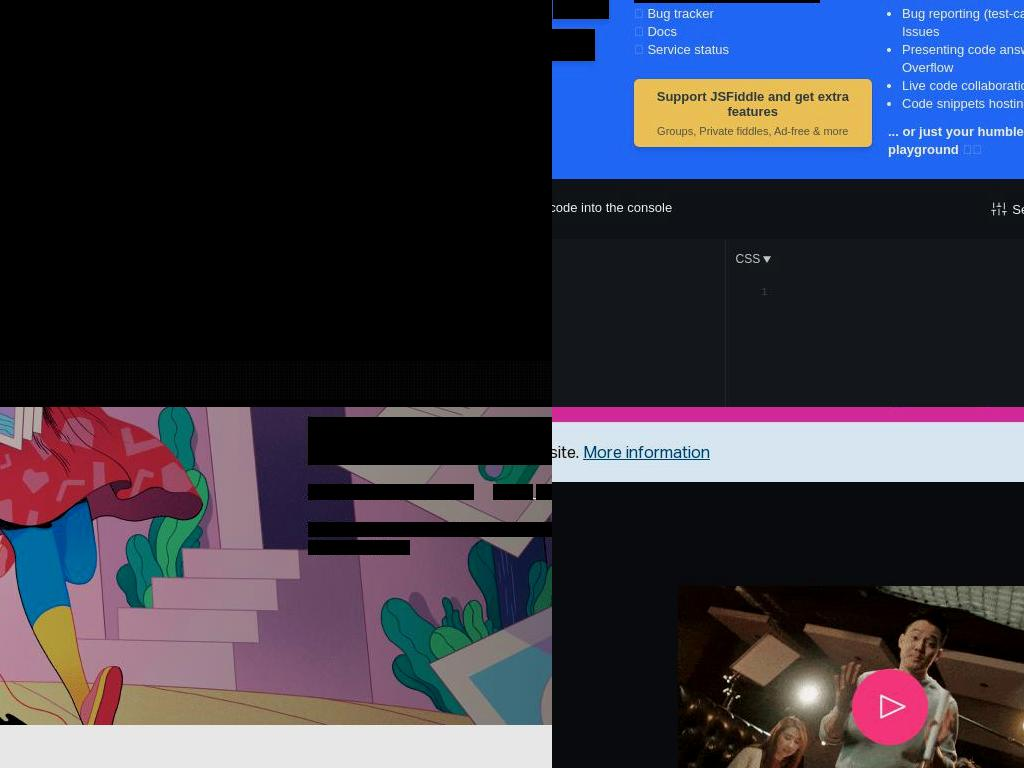button: (0, 0, 552, 361), (678, 586, 1024, 768), (634, 79, 872, 147), (0, 248, 552, 273), (308, 417, 552, 465), (0, 316, 146, 341), (583, 440, 710, 464), (981, 179, 1024, 239), (725, 239, 782, 279), (552, 29, 595, 61), (553, 0, 609, 19)
heading: (0, 248, 552, 273)
image: (0, 0, 552, 361), (725, 279, 784, 407), (851, 668, 929, 746), (987, 201, 1012, 217), (536, 484, 552, 500), (763, 255, 772, 263)
link: (643, 89, 863, 119), (902, 6, 1024, 39), (902, 42, 1024, 75), (657, 125, 849, 137), (902, 78, 1024, 93), (902, 96, 1024, 111), (647, 42, 730, 57), (331, 540, 406, 555), (647, 6, 715, 21), (505, 522, 552, 537), (647, 24, 678, 39), (902, 0, 993, 3), (657, 0, 715, 3)
text: (0, 274, 552, 314), (888, 123, 1024, 159), (783, 283, 1024, 299), (392, 429, 524, 453), (308, 522, 505, 537), (552, 283, 725, 299), (308, 484, 474, 500), (0, 319, 145, 337), (552, 200, 673, 215), (164, 320, 230, 337), (493, 484, 533, 500), (741, 283, 776, 300), (735, 252, 761, 266), (308, 540, 331, 555), (713, 0, 820, 3), (634, 6, 647, 21), (634, 24, 647, 39), (634, 42, 647, 57), (1012, 201, 1024, 217), (405, 540, 410, 555), (634, 0, 657, 3)
